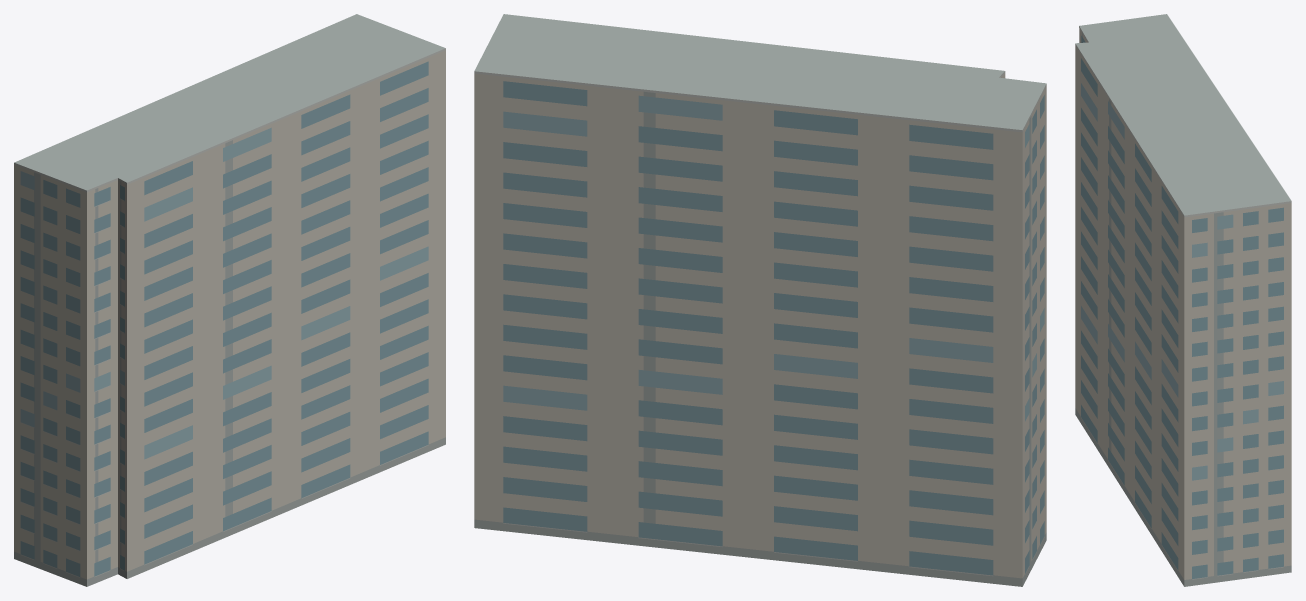
File: residential-e205a91d-db50-4e8e-86d5-0769d9ef140e.glb
3 views of the same model, side by side, from view 1: azimuth 30°, elevation 25°; view 2: azimuth 150°, elevation 25°; view 3: azimuth 270°, elevation 25° (orthographic). The views are drawn at different scales.
Parts seen in each view (by area): view 1: residential-e205a91d-db50-4e8e-86d5-0769d9ef140e.tmp; view 2: residential-e205a91d-db50-4e8e-86d5-0769d9ef140e.tmp; view 3: residential-e205a91d-db50-4e8e-86d5-0769d9ef140e.tmp.
Boxes of the visible parts, x1,y1,x2,y2 form: residential-e205a91d-db50-4e8e-86d5-0769d9ef140e.tmp: (14, 14, 445, 586); residential-e205a91d-db50-4e8e-86d5-0769d9ef140e.tmp: (474, 14, 1046, 586); residential-e205a91d-db50-4e8e-86d5-0769d9ef140e.tmp: (1075, 14, 1291, 586).
Size of the model in its own units: 57.07 by 49 by 25.89.
